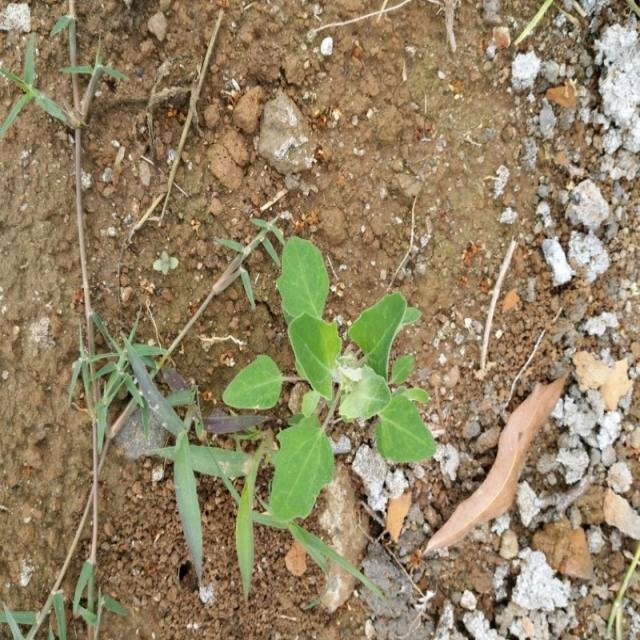ca: (225, 238, 439, 522)
